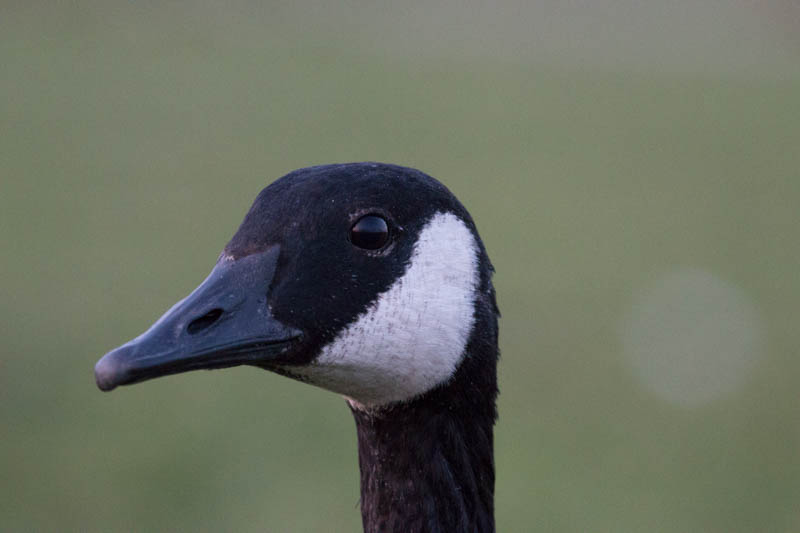goose-head: (95, 162, 498, 412)
